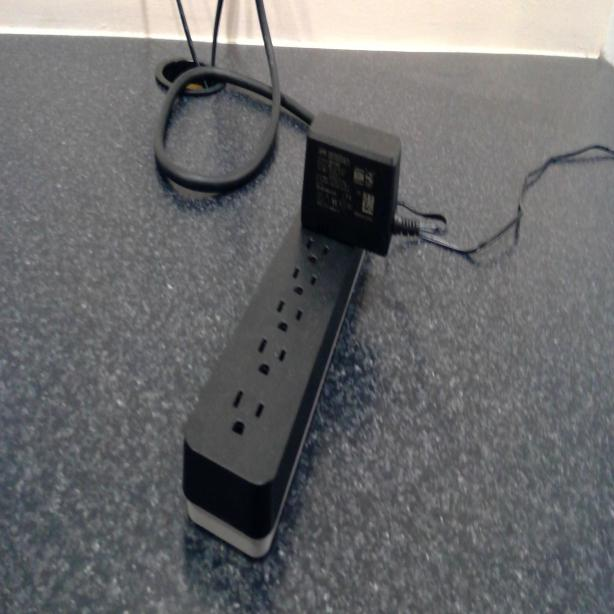typeb: (221, 381, 273, 444), (253, 337, 291, 389), (270, 300, 307, 344), (288, 267, 321, 302), (304, 232, 334, 268)
